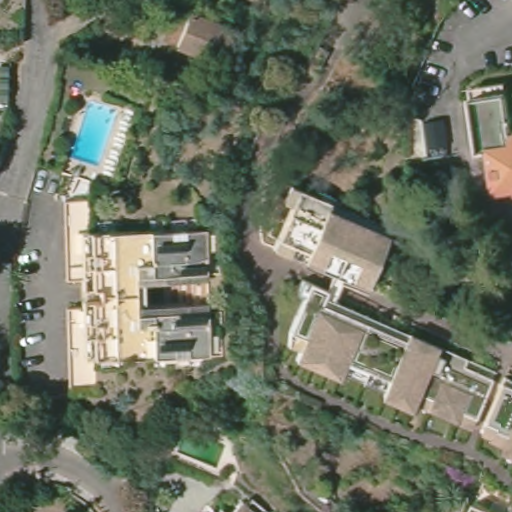pool: (66, 102, 119, 163)
